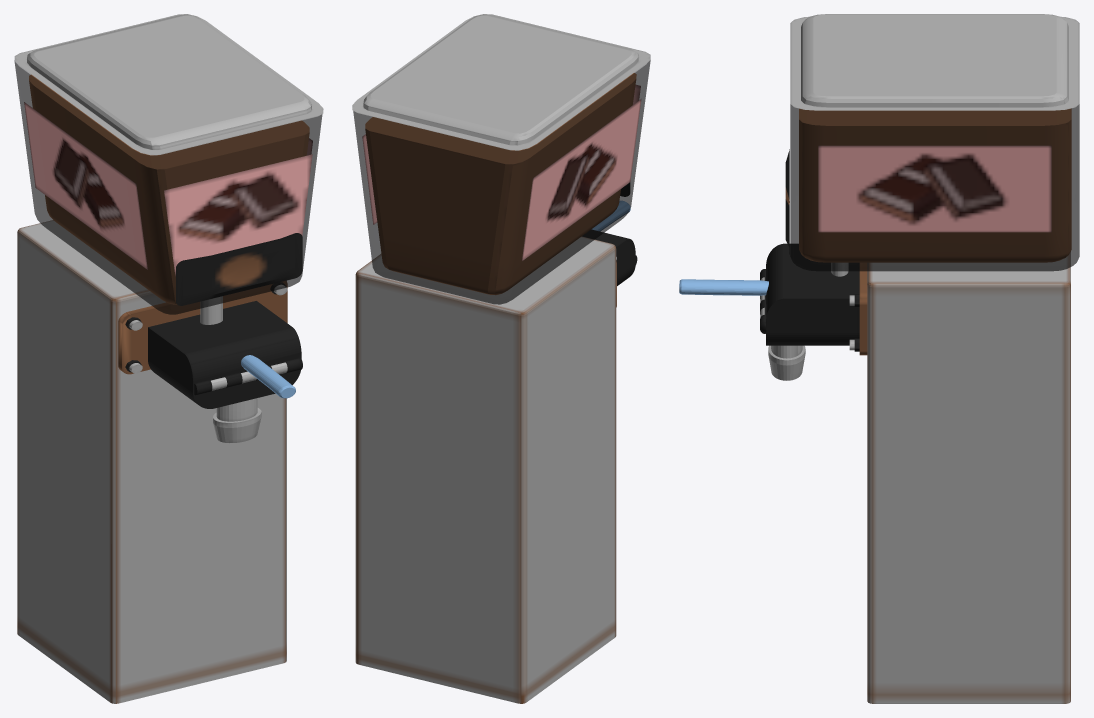
Rendered from Chocolate_new2.fbx.
3 renders of one model, left to right at view 1: azimuth 30°, elevation 25°; view 2: azimuth 150°, elevation 25°; view 3: azimuth 270°, elevation 25°, orthographic. The views are drawn at different scales.
Parts seen in each view (by area): view 1: stage1_chocolate2, stage1_chocolate1, stage1_chocolate3, stage1_strawberry4.002, stage1_chocolate_handle.001; view 2: stage1_chocolate2, stage1_chocolate1, stage1_chocolate3, stage1_strawberry4.002; view 3: stage1_chocolate2, stage1_chocolate1, stage1_chocolate3, stage1_strawberry4.002, stage1_chocolate_handle.001.
Boxes of the visible parts, box(x1,y1,x2,y2) form: stage1_chocolate2: box(15, 14, 323, 703); stage1_chocolate1: box(14, 60, 322, 314); stage1_chocolate3: box(29, 74, 309, 304); stage1_strawberry4.002: box(148, 296, 302, 442); stage1_chocolate_handle.001: box(241, 355, 295, 398); stage1_chocolate2: box(352, 14, 649, 703); stage1_chocolate1: box(353, 55, 650, 304); stage1_chocolate3: box(365, 73, 636, 294); stage1_strawberry4.002: box(582, 229, 637, 285); stage1_chocolate2: box(785, 14, 1079, 703); stage1_chocolate1: box(790, 17, 1079, 271); stage1_chocolate3: box(799, 108, 1071, 262); stage1_strawberry4.002: box(760, 243, 859, 380); stage1_chocolate_handle.001: box(679, 279, 768, 295).
Bounding box in the file's own units: 79.18 × 236 × 142.
